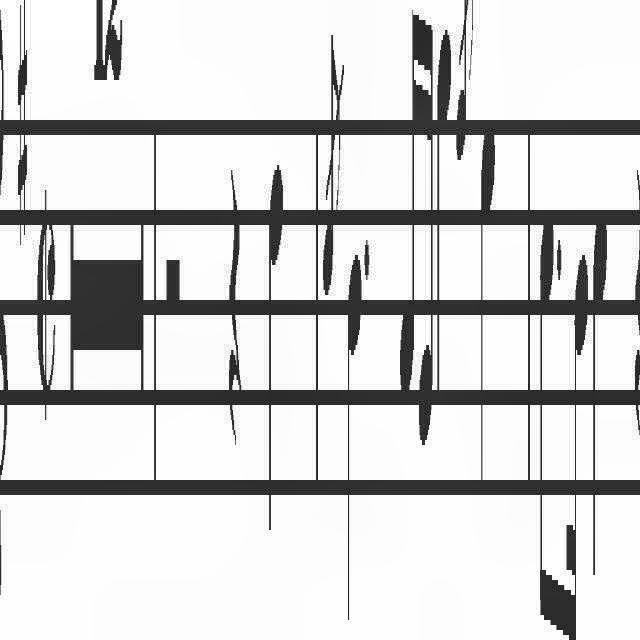Bass-clef: (0, 0, 14, 640)
Diez: (14, 0, 34, 240)
Eighth-note: (534, 165, 556, 640)
Quarter-note: (262, 101, 286, 573), (479, 65, 498, 559), (586, 207, 610, 588), (341, 255, 361, 640), (435, 1, 453, 416)
Quarter-rest: (214, 117, 246, 496), (628, 120, 640, 490)
Sixteenth-note: (390, 0, 418, 430), (416, 0, 436, 490), (564, 235, 588, 640)
